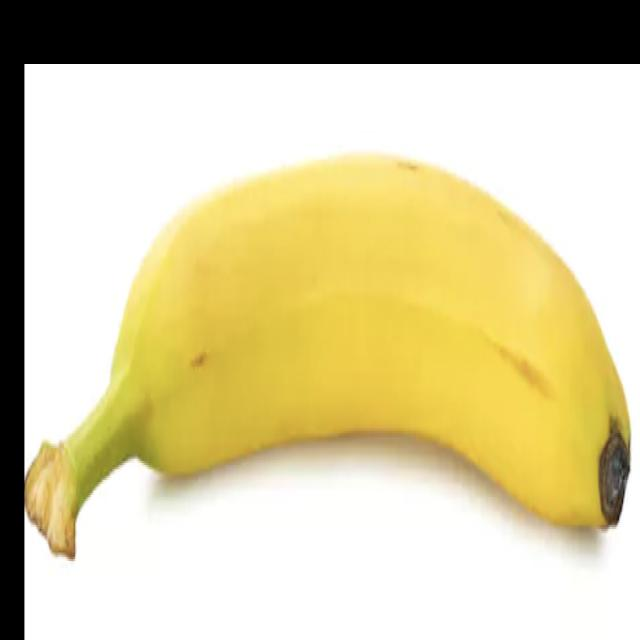Ripe: (17, 127, 640, 584)
